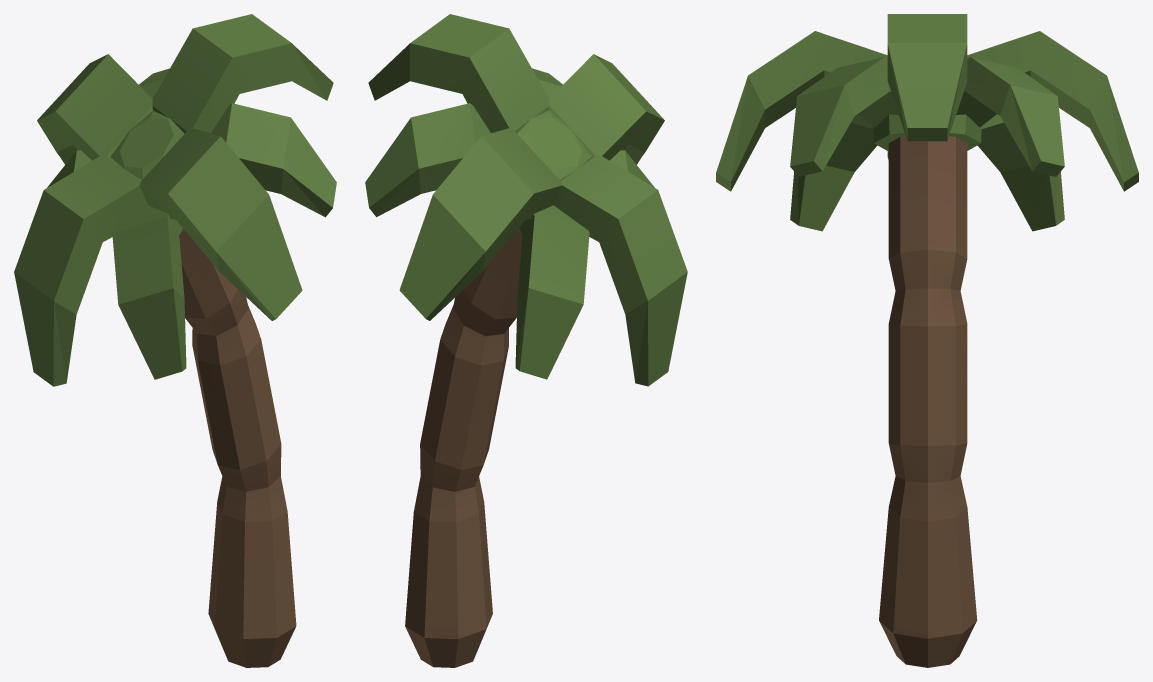
The model's file is palm.glb.
3 renders of one model, left to right at view 1: azimuth 30°, elevation 25°; view 2: azimuth 150°, elevation 25°; view 3: azimuth 270°, elevation 25°, orthographic.
Parts seen in each view (by area): view 1: palm; view 2: palm; view 3: palm.
Boxes of the visible parts, left/top/right/bottom form: palm: left=14, top=14, right=336, bottom=667; palm: left=365, top=14, right=687, bottom=667; palm: left=716, top=14, right=1138, bottom=667.
Bounding box in the file's own units: 3.8 × 7.8 × 4.8.
